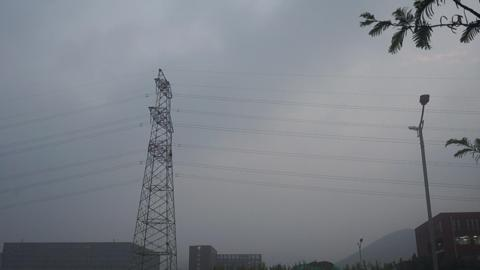UAV: (167, 166, 174, 168)
